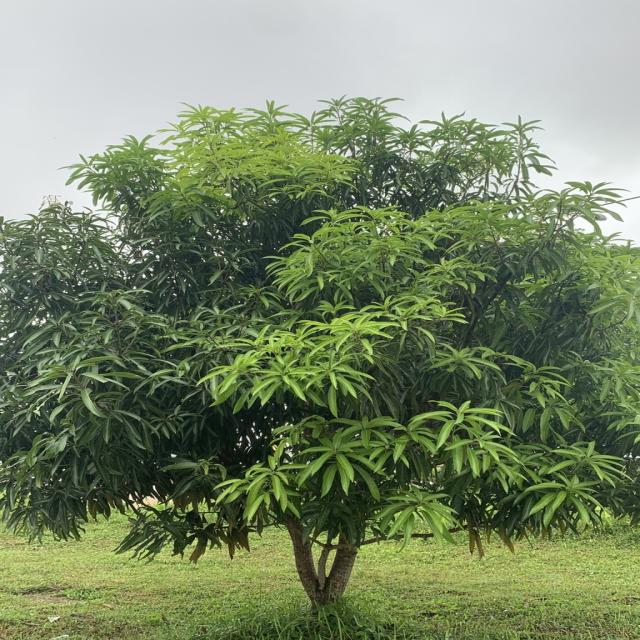Mango-Tree: (9, 107, 640, 614)
